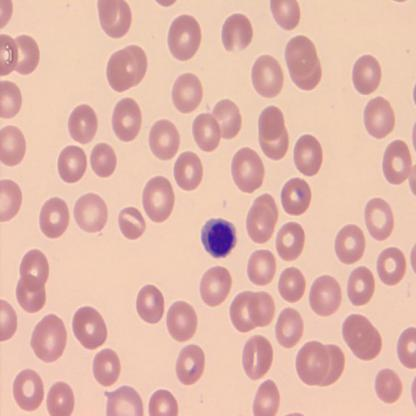NRC: (200, 215, 238, 260)
